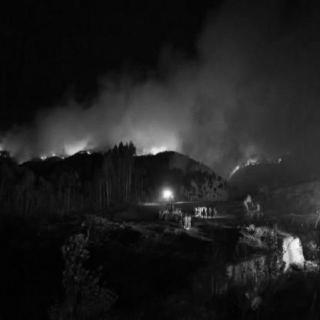Fire: (38, 140, 178, 161), (221, 151, 281, 181)
Smoke: (22, 7, 314, 147)
